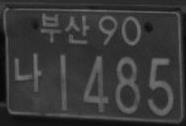0: (121, 15, 141, 46)
1: (50, 53, 77, 111)
4: (82, 55, 108, 113)
5: (146, 57, 174, 117)
8: (114, 55, 140, 115)
9: (97, 14, 118, 46)
나: (13, 52, 41, 93)
부산_O: (40, 12, 89, 45)
